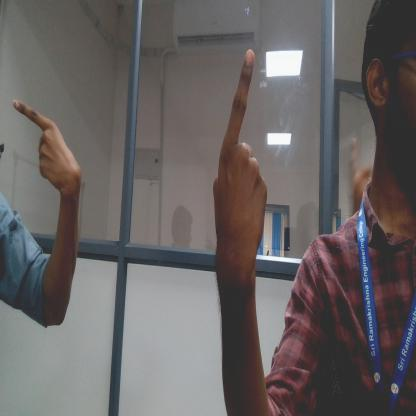Right: (5, 93, 99, 196)
Up: (202, 33, 287, 296)
